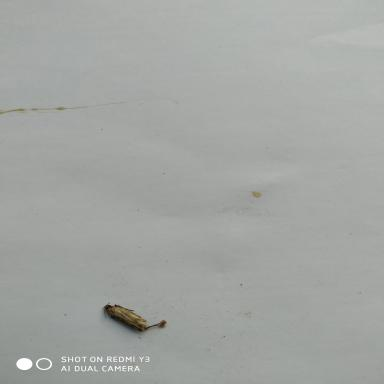pbw: (101, 300, 164, 334)
